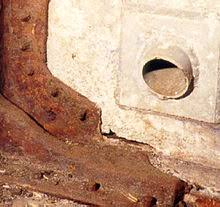rust: (3, 139, 206, 207), (1, 1, 55, 156), (28, 79, 104, 145)
